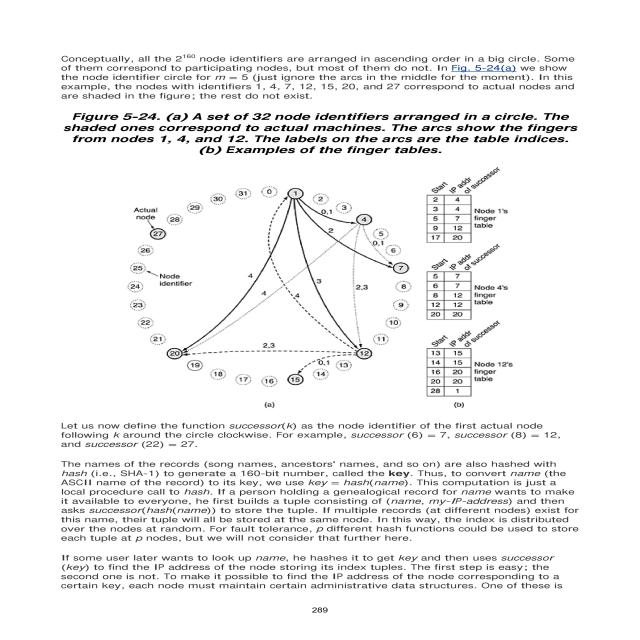diagram: (6, 103, 640, 414)
